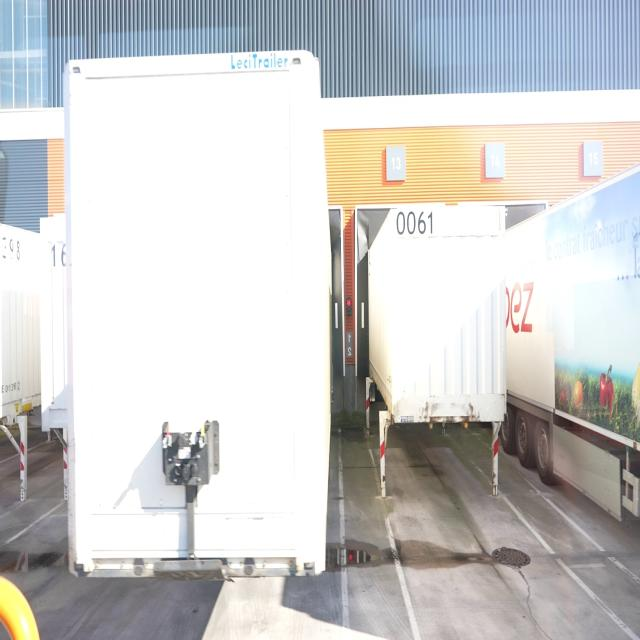Code: (395, 207, 436, 239)
